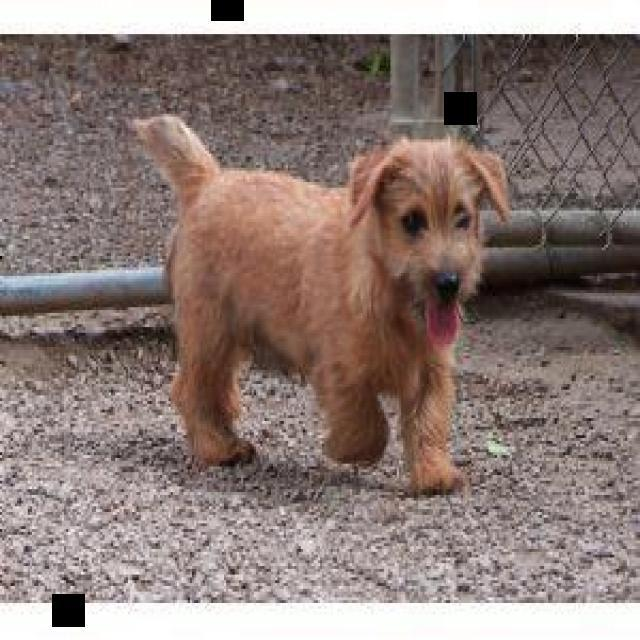puppy-dog: (135, 116, 513, 500)
